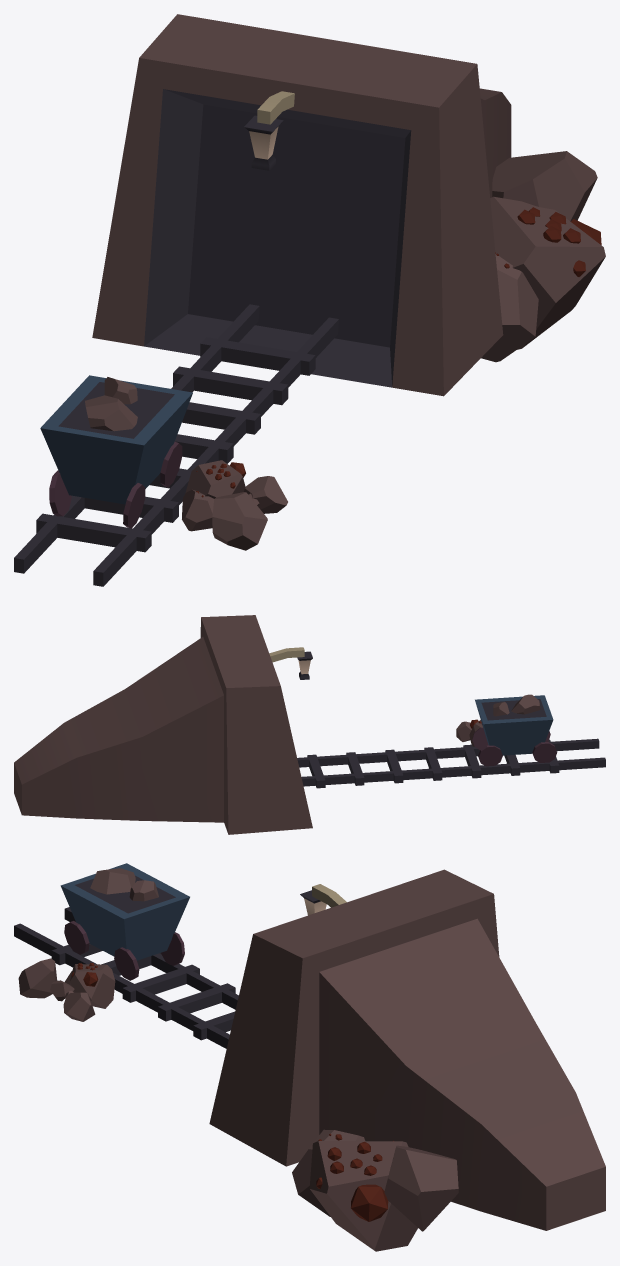
File: Resource_Stone_001.fbx
The picture shows the model from 3 angles, top to bottom: view 1: azimuth 30°, elevation 25°; view 2: azimuth 150°, elevation 25°; view 3: azimuth 270°, elevation 25°; orthographic projection. The views are drawn at different scales.
Visible parts, largest first — view 1: Resource_Stone_001; view 2: Resource_Stone_001; view 3: Resource_Stone_001.
Part boxes in pixels (<box>): Resource_Stone_001: <box>14,14,605,586</box>; Resource_Stone_001: <box>14,615,605,834</box>; Resource_Stone_001: <box>14,863,605,1251</box>.
Bounding box in the file's own units: 699 × 278 × 581.
